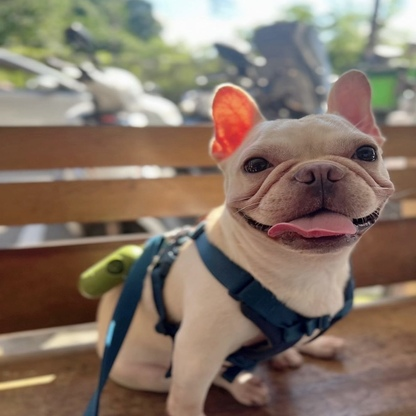bulldog: (91, 66, 400, 413)
